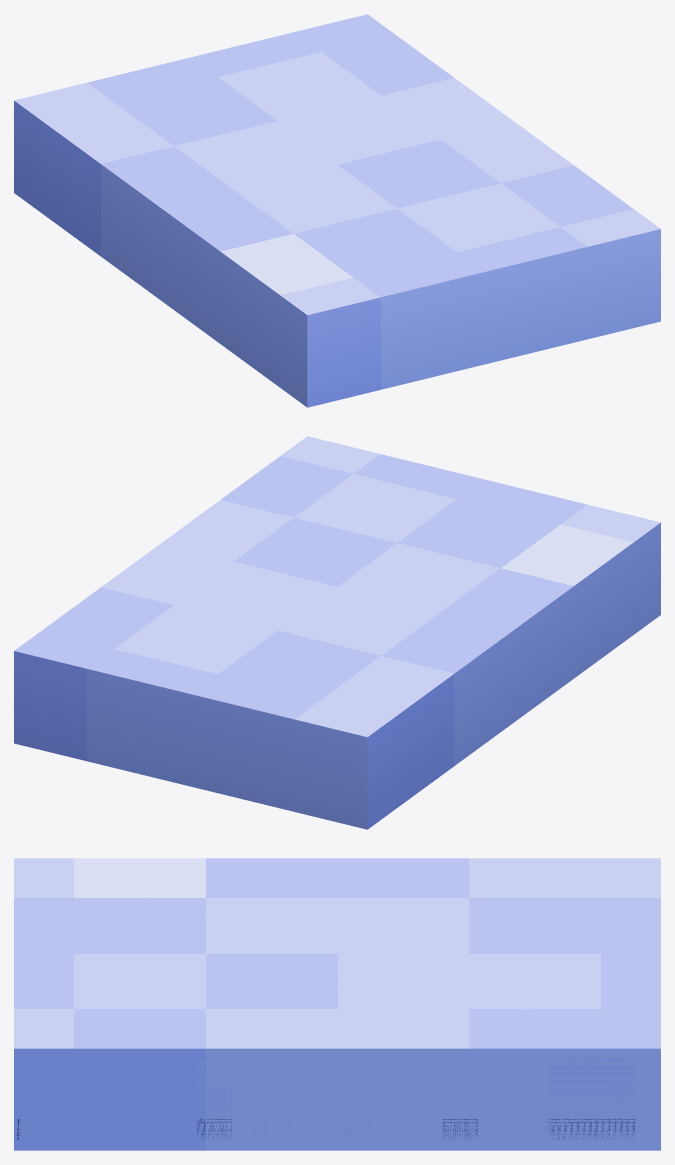
Rendered from prop.book.glb.
3 views of the same model, one above another, from view 1: azimuth 30°, elevation 25°; view 2: azimuth 150°, elevation 25°; view 3: azimuth 270°, elevation 25° (orthographic). The views are drawn at different scales.
Parts seen in each view (by area): view 1: kit_book; view 2: kit_book; view 3: kit_book, kit_book_pages.
Part boxes in pixels (x1,y1,x2,y2): kit_book: [14, 14, 660, 407]; kit_book: [14, 436, 660, 829]; kit_book: [14, 858, 660, 1150]; kit_book_pages: [16, 1058, 635, 1139].
Bounding box in the file's own units: 0.16 × 0.04 × 0.23.
Materials: 2 (2 with a texture image).
